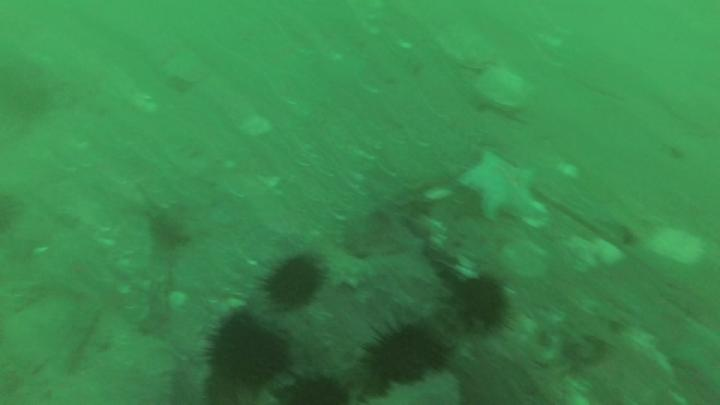echinus: (209, 317, 289, 384), (364, 327, 446, 385), (262, 256, 324, 308), (449, 282, 504, 327)
scallop: (476, 68, 531, 106)
starfish: (459, 151, 537, 219)
